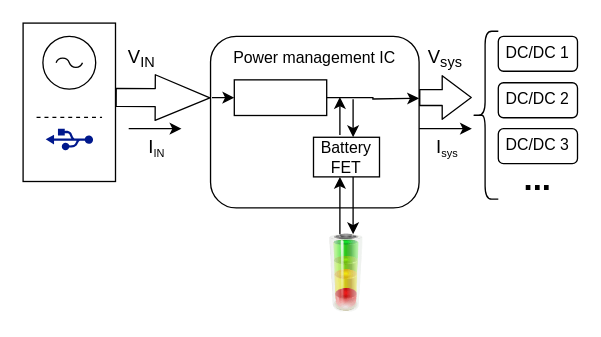
Some shapes in this 601 by 337 pixel diagram are drawn without their labels. Each missing label, with the centre of its shape:
"Adapter" goes at [69,62].
"DC/DC" goes at [280,97].
"USB power" goes at [68,139].
